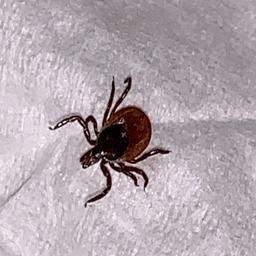Ixodes scapularis: (51, 75, 169, 209)
